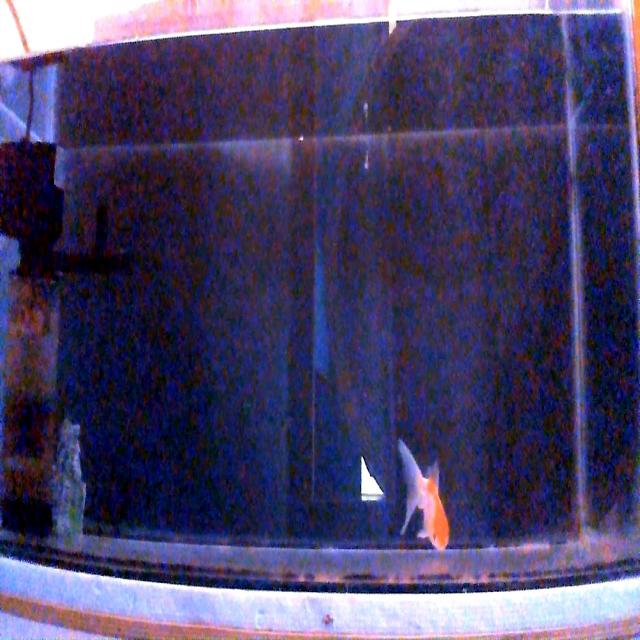fish: (397, 439, 449, 550)
